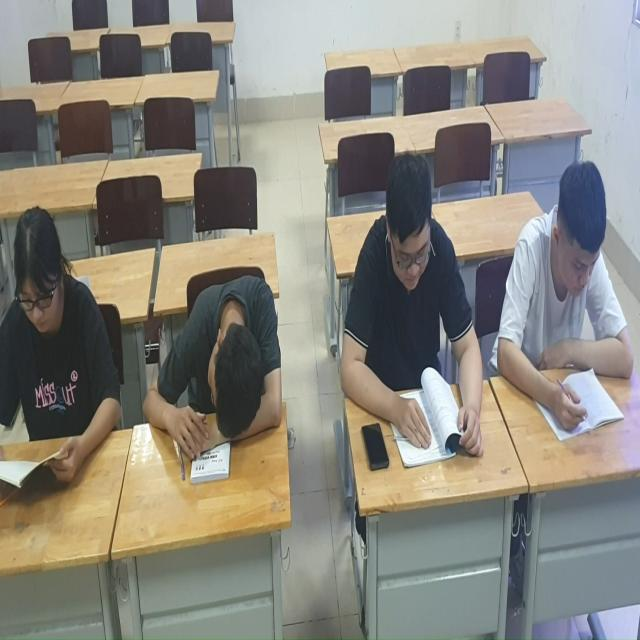read: (339, 159, 490, 464), (499, 157, 636, 441), (1, 204, 128, 502)
sleep: (142, 282, 299, 488)
